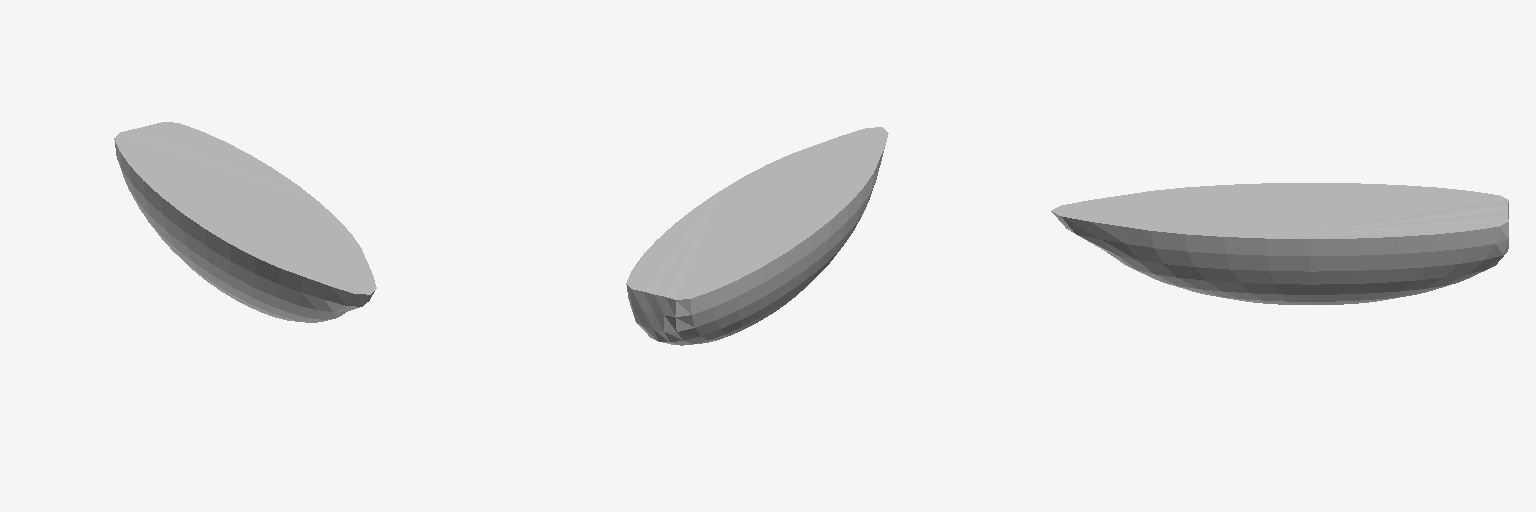
Rendered from schiff.obj.
The picture shows the model from 3 angles: view 1: azimuth 30°, elevation 25°; view 2: azimuth 150°, elevation 25°; view 3: azimuth 270°, elevation 25°; orthographic projection.
Parts seen in each view (by area): view 1: Sphere; view 2: Sphere; view 3: Sphere.
Part boxes in pixels (x1,y1,x2,y2): Sphere: (114, 122, 376, 322); Sphere: (626, 127, 888, 345); Sphere: (1051, 183, 1508, 304).
Size of the model in its own units: 1.34 by 1 by 4.59.